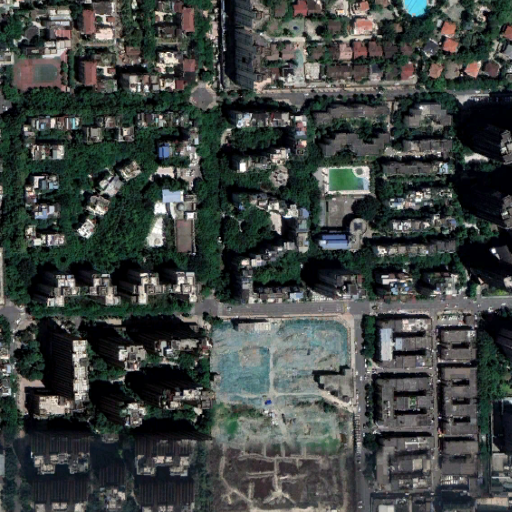cw: (209, 318, 355, 455)
